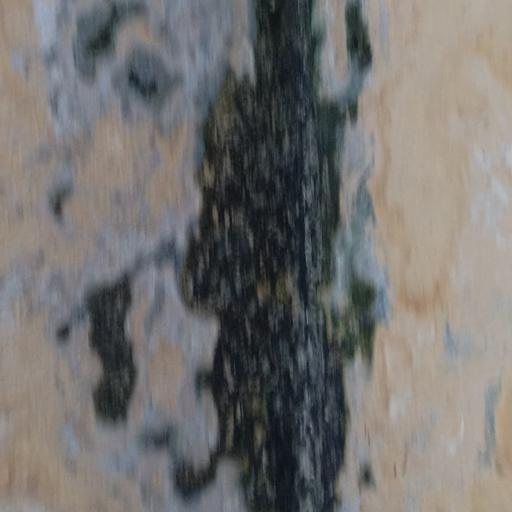algae: (98, 0, 431, 512)
